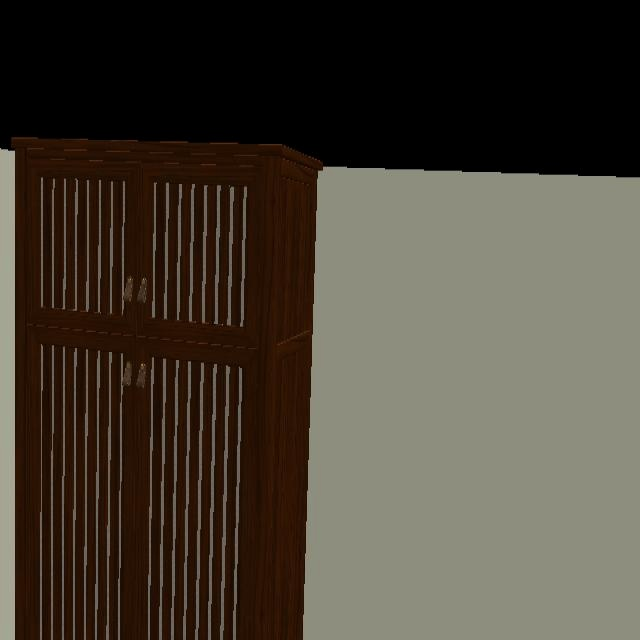wardrobe: (12, 137, 321, 640)
